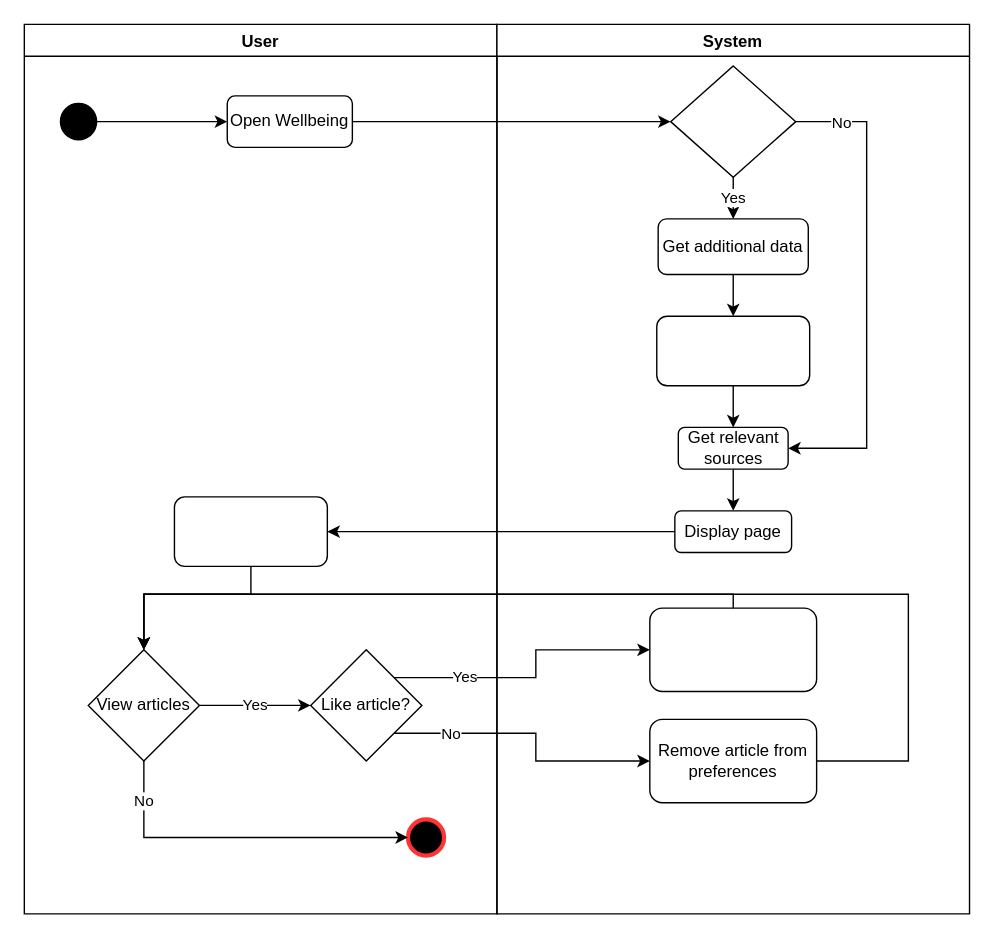
Image size: 994x938. Some labels were removed from this diagram. Each missing label, with the centre of its shape:
"Are sensor enabled?" goes at point 732,121.
"Build summary of sleep schedule and breaks taken" goes at point 732,350.
"Rank article and similar higher in preferences" goes at point 732,649.
"View summary and list of articles" goes at point 250,531.
